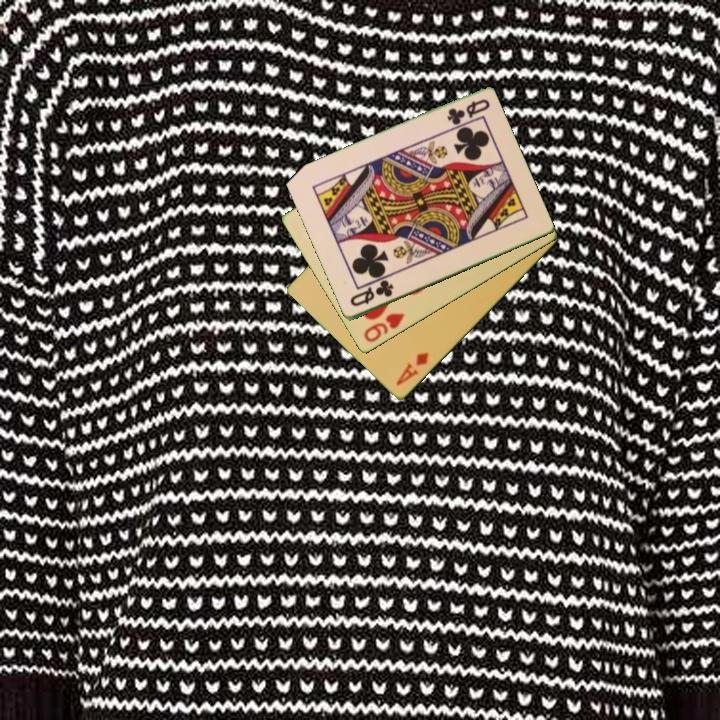9h: (360, 310, 407, 346)
Ad: (392, 349, 431, 389)
Qc: (346, 277, 397, 310), (443, 96, 493, 128)
